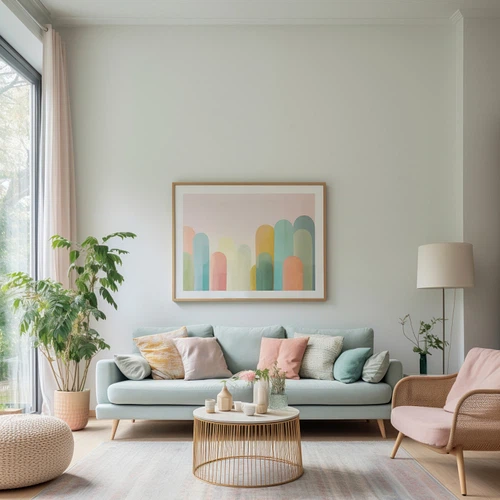chair: (388, 346, 500, 496)
floor lamp: (415, 237, 475, 376)
flower vase: (238, 359, 273, 414)
large plant: (0, 229, 137, 429)
sofa: (94, 322, 407, 442)
table: (189, 400, 306, 484)
wall art: (169, 179, 330, 303)
